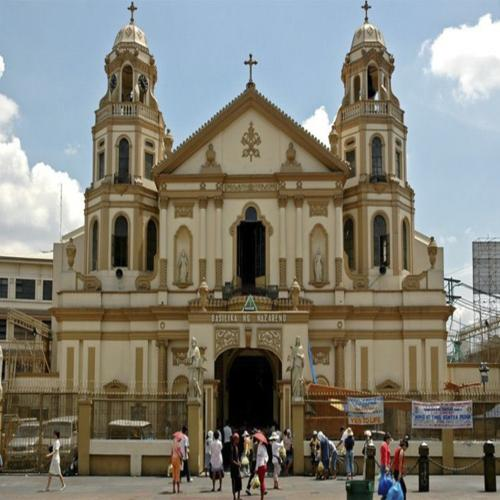Quiapo Church: (46, 3, 458, 461)
